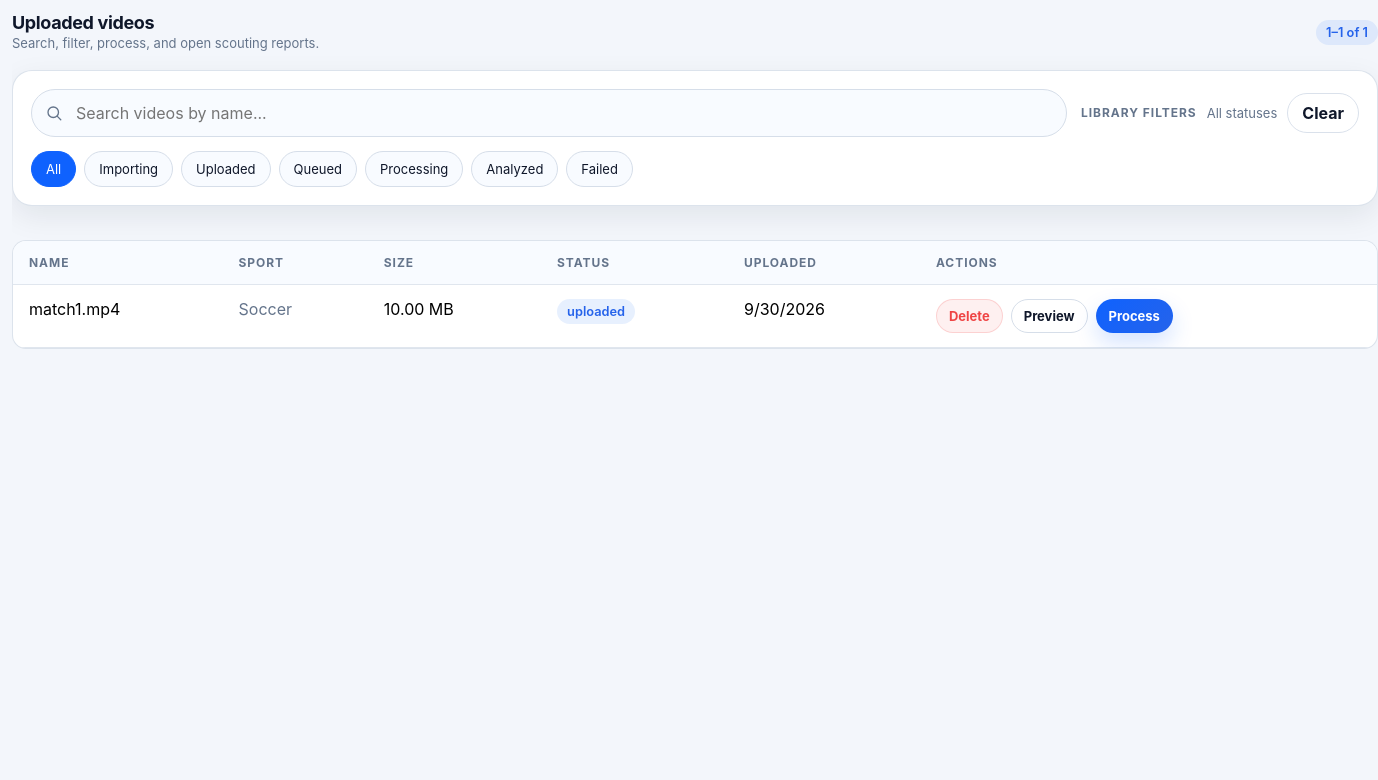
Test: VideoList real-time analysis updates › shows live progress percentage from analysis:progress events
Expected: the text "match1.mp4" is shown, x1=13 y1=284 x2=222 y2=348
Click the button "Process" at (1134,316), box x1=1096 y1=299 x2=1173 y2=333
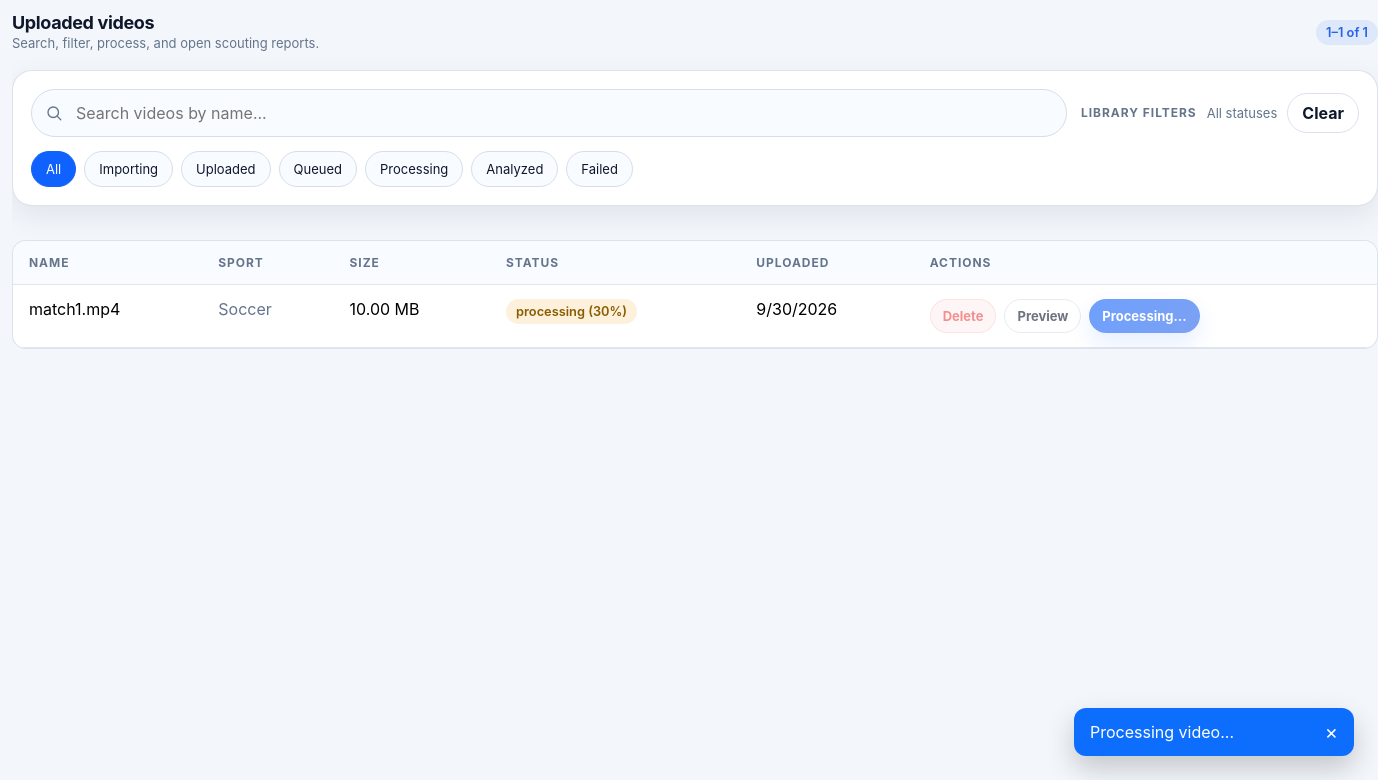
Now the text "processing" is shown, box x1=516 y1=304 x2=627 y2=319
Now the text "processing (30%)" is shown, box x1=506 y1=299 x2=637 y2=324
